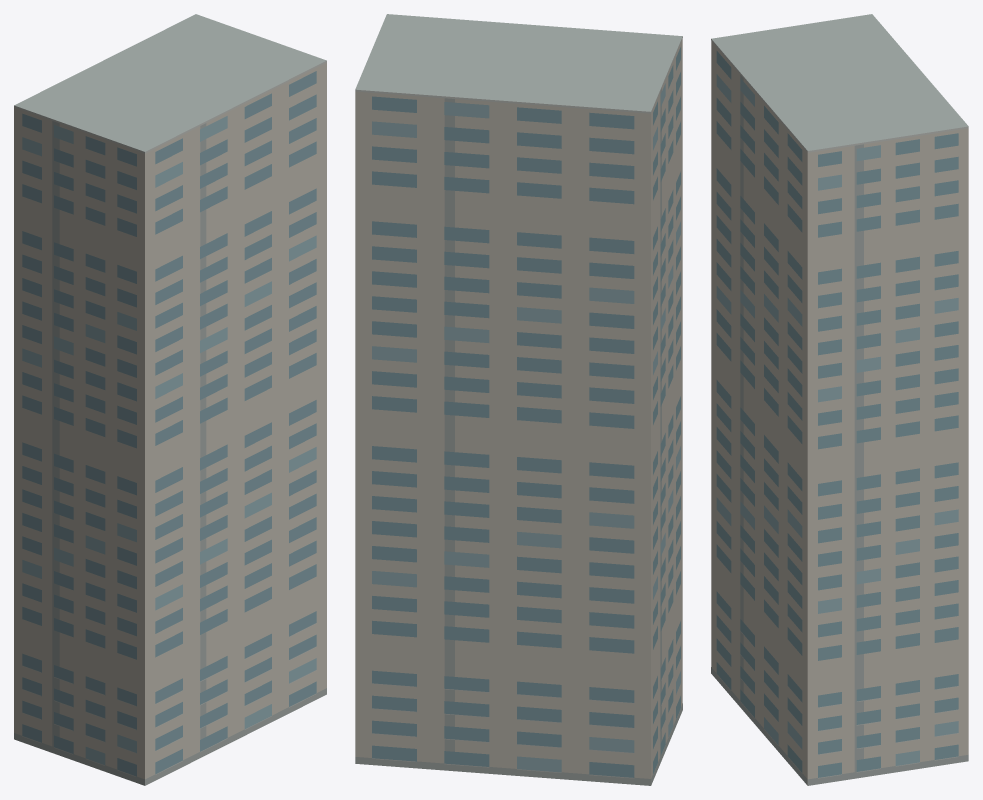
File: residential-cab7cf85-7eae-4cb9-af82-19a8b14bda29.glb
The picture shows the model from 3 angles, left to right: view 1: azimuth 30°, elevation 25°; view 2: azimuth 150°, elevation 25°; view 3: azimuth 270°, elevation 25°; orthographic projection. The views are drawn at different scales.
Visible parts, largest first — view 1: residential-cab7cf85-7eae-4cb9-af82-19a8b14bda29.tmp; view 2: residential-cab7cf85-7eae-4cb9-af82-19a8b14bda29.tmp; view 3: residential-cab7cf85-7eae-4cb9-af82-19a8b14bda29.tmp.
Part boxes in pixels (x1=…): residential-cab7cf85-7eae-4cb9-af82-19a8b14bda29.tmp: x1=14, y1=14, x2=326, y2=785; residential-cab7cf85-7eae-4cb9-af82-19a8b14bda29.tmp: x1=355, y1=14, x2=682, y2=785; residential-cab7cf85-7eae-4cb9-af82-19a8b14bda29.tmp: x1=711, y1=14, x2=968, y2=785.
Bounding box in the file's own units: 40.31 × 87 × 32.
